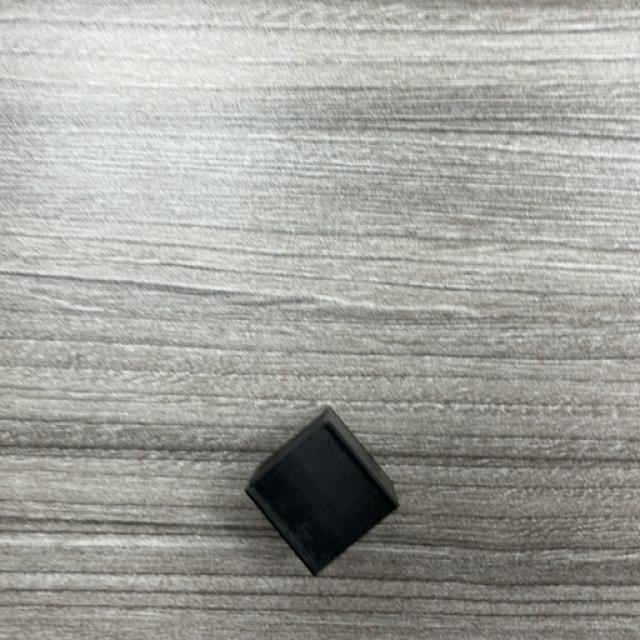Negro: (244, 408, 400, 579)
